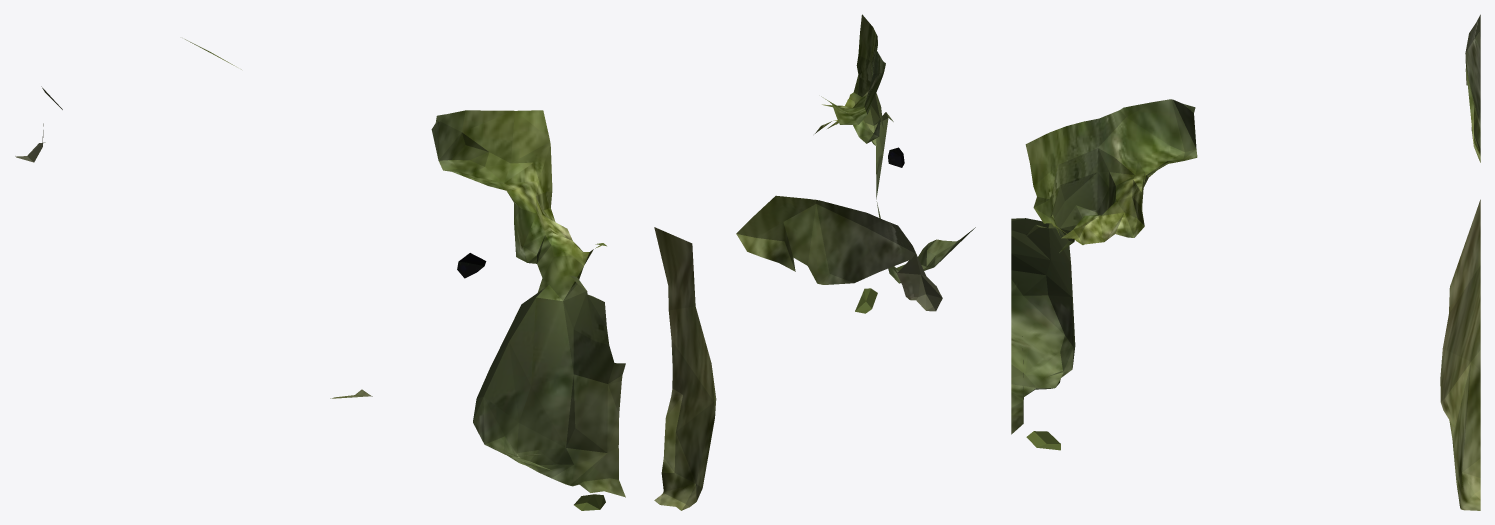
3 views of the same model, side by side, from view 1: azimuth 30°, elevation 25°; view 2: azimuth 150°, elevation 25°; view 3: azimuth 270°, elevation 25° (orthographic). The views are drawn at different scales.
Bounding box in the file's own units: 2.24 × 2.57 × 2.95.
2 materials, 2 textured.
